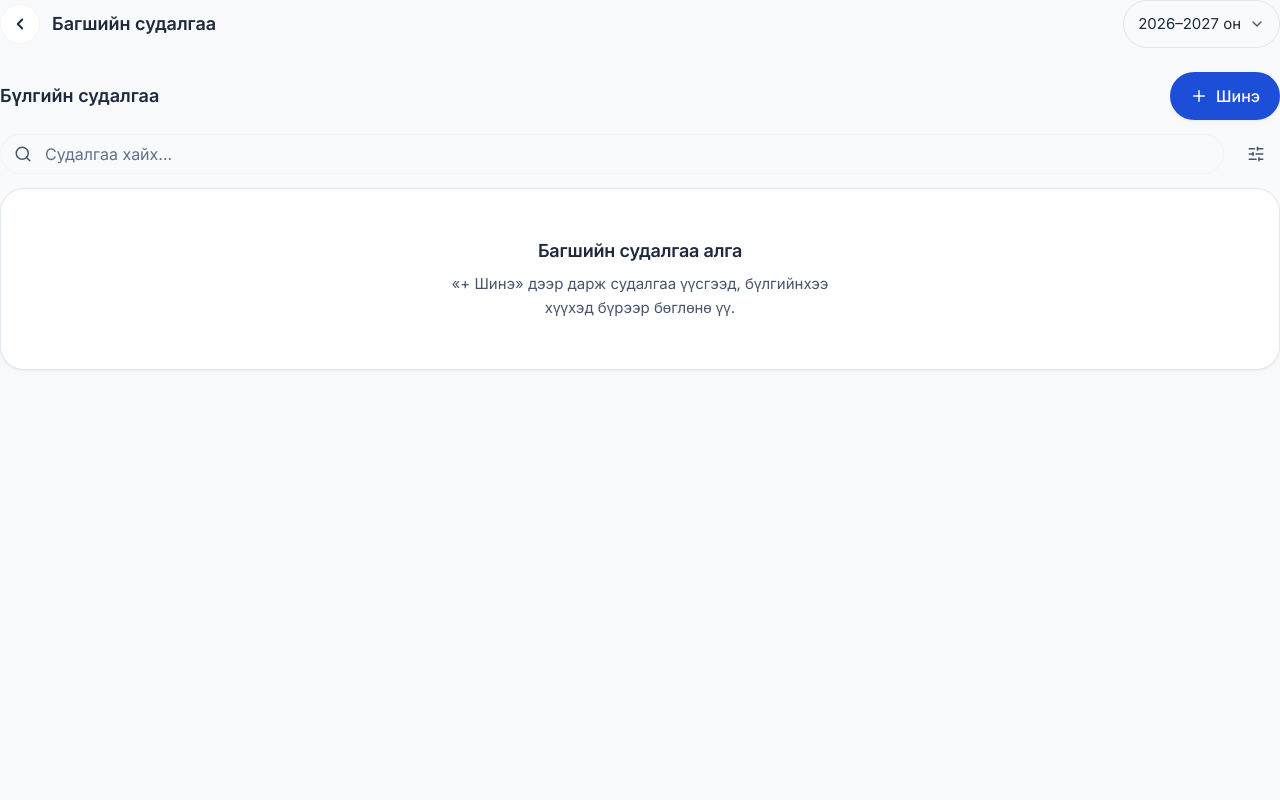
Test: the teacher's surveys › picks the children by short name and age, without the group
The width and height of the screenshot is (1280, 800).
Click the button "Шинэ" at [1225, 96], box [1170,72,1279,120]
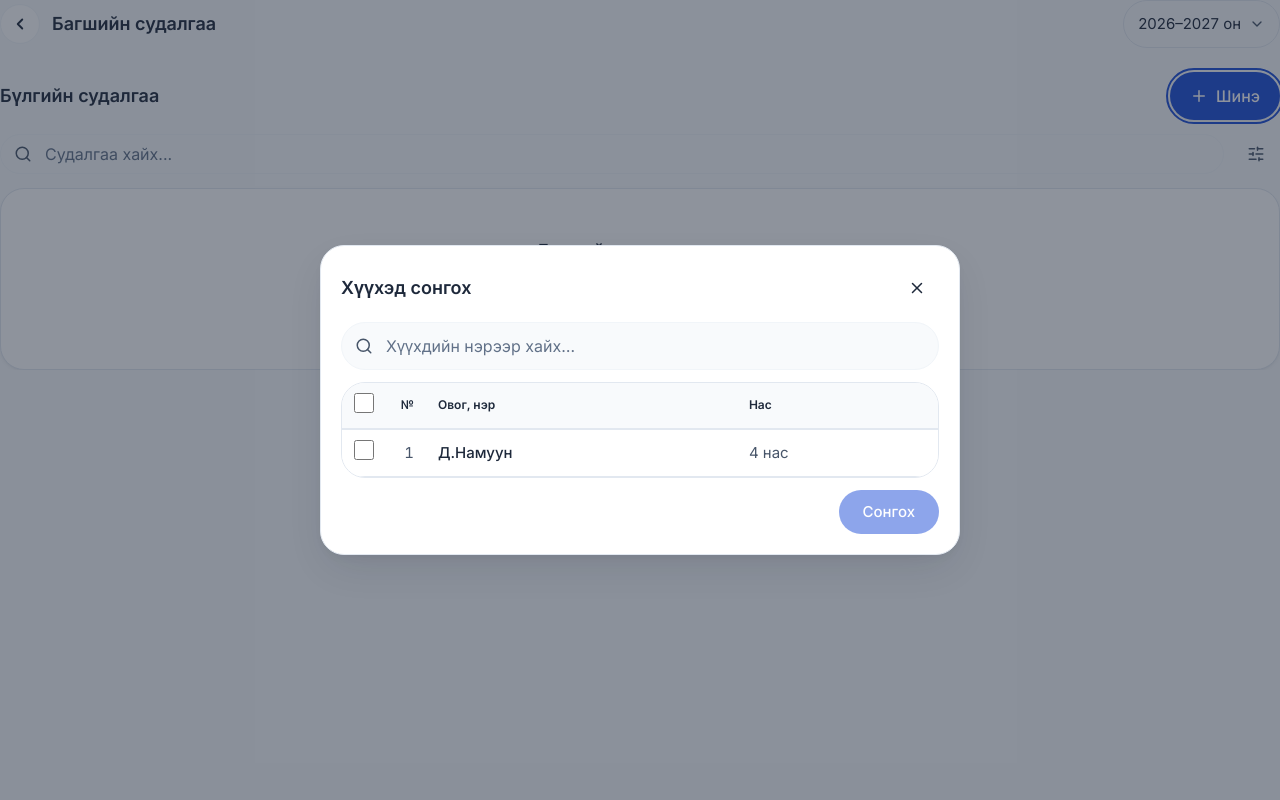
Expected: the text "Д.Намуун" is shown, [426,430,737,477]
Expected: the column heading "Нас" is shown, [737,383,938,429]
Expected: the checkbox named "Бүгдийг сонгох" is shown, [354,393,374,413]
